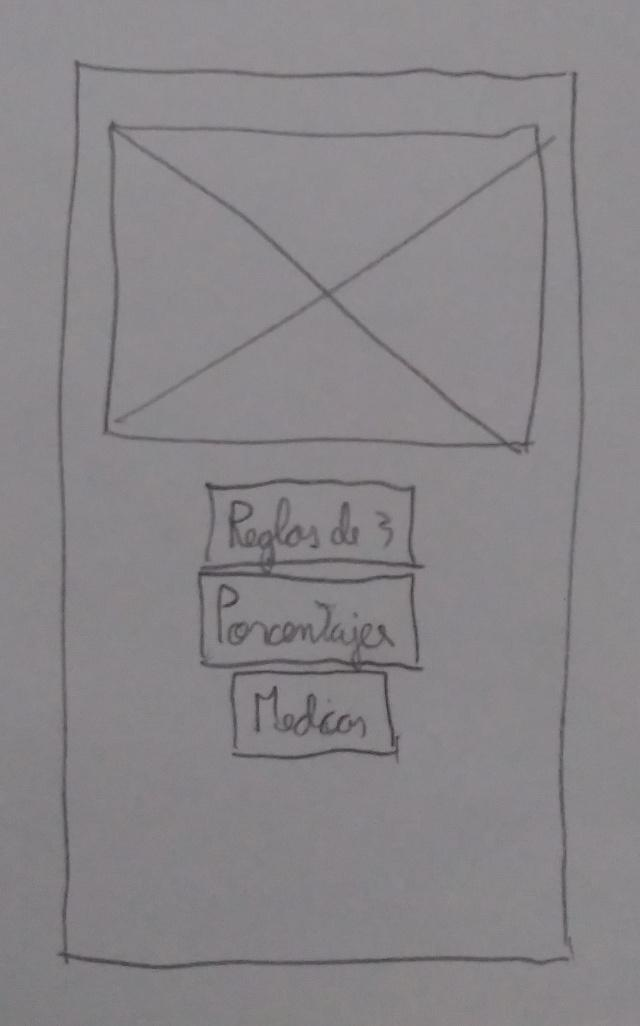Button: (197, 571, 419, 670), (204, 476, 416, 572), (230, 669, 397, 759)
Image: (103, 123, 549, 447)
Screen: (60, 60, 585, 969)
